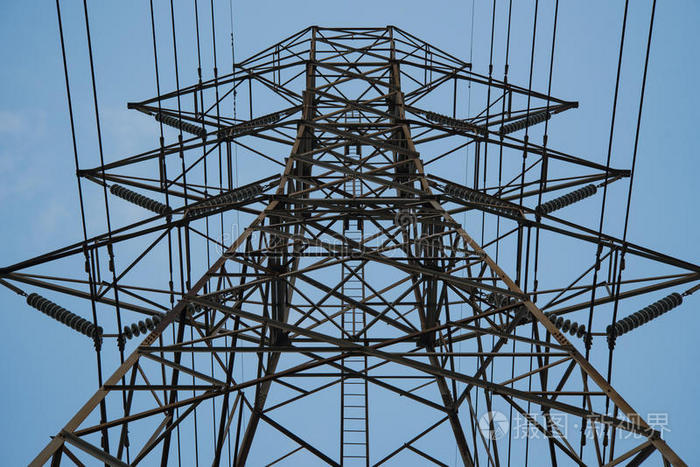insulator: (26, 290, 103, 340), (487, 294, 586, 332), (605, 292, 683, 337), (443, 182, 522, 216), (185, 185, 262, 214), (109, 183, 170, 215), (536, 183, 597, 213), (425, 110, 490, 135), (219, 114, 282, 139), (156, 114, 205, 136), (500, 112, 553, 132), (123, 314, 162, 336)
